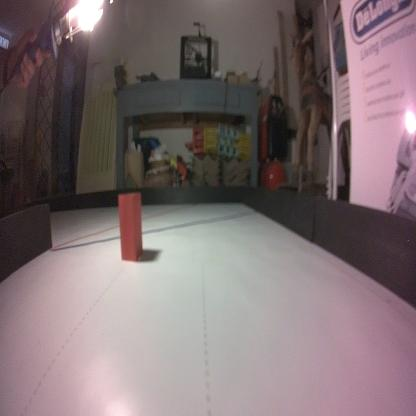red: (117, 188, 146, 262)
